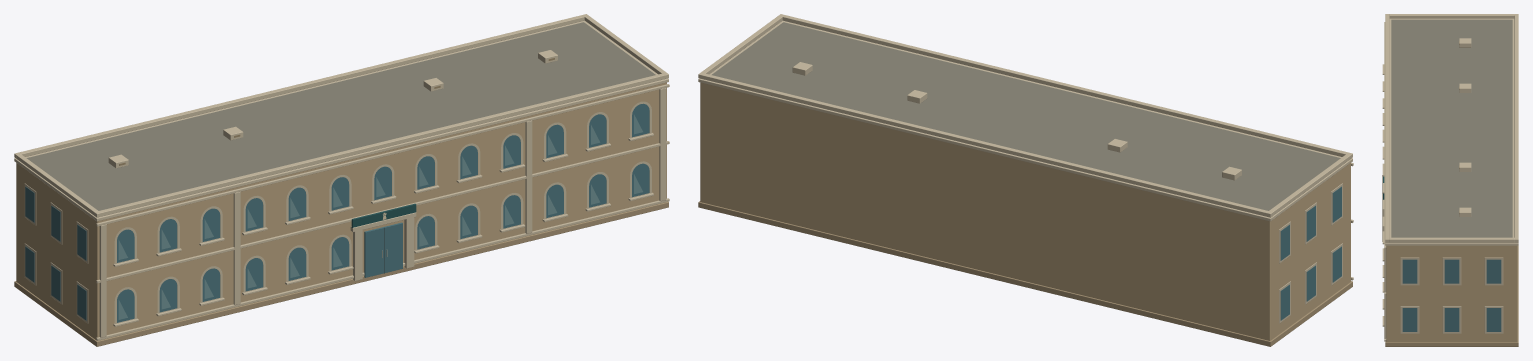
Rendered from alc_museum_bf0c31b1.glb.
3 views of the same model, side by side, from view 1: azimuth 30°, elevation 25°; view 2: azimuth 150°, elevation 25°; view 3: azimuth 270°, elevation 25° (orthographic). The views are drawn at different scales.
Parts seen in each view (by area): view 1: alc_museum; view 2: alc_museum; view 3: alc_museum.
Part boxes in pixels (x1,y1,x2,y2): alc_museum: (14,14,669,346); alc_museum: (698,14,1353,346); alc_museum: (1382,14,1518,346).
Bounding box in the file's own units: 40 × 9 × 10.22.
